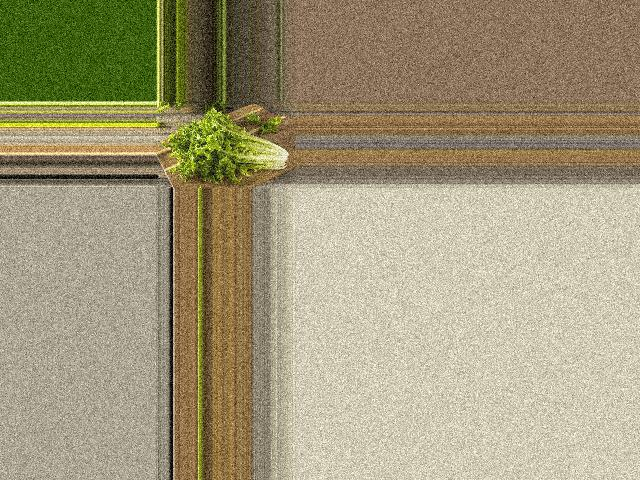lettuce: (168, 110, 295, 184)
